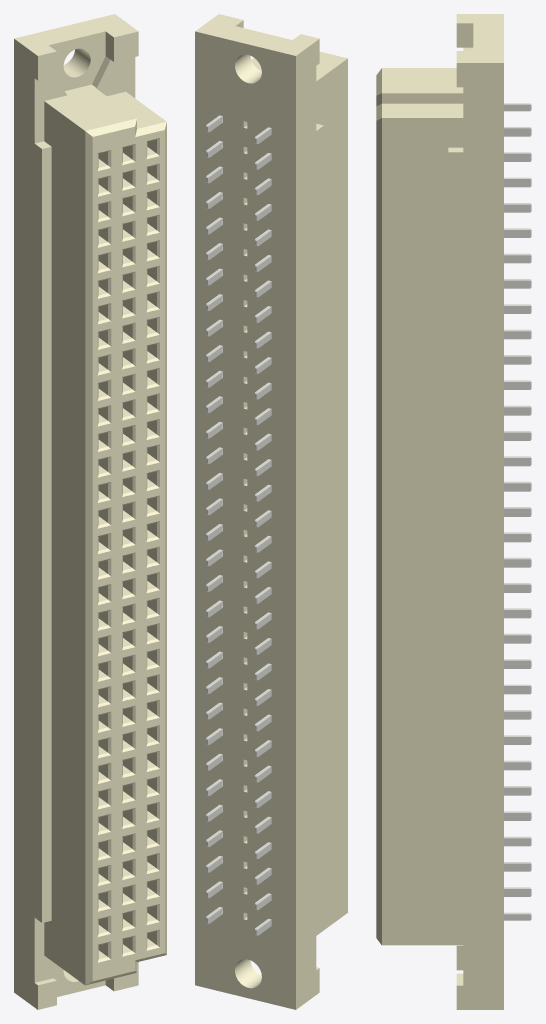
File: DIN41612_C_2x32_Female_Vertical_THT.glb
3 renders of one model, left to right at view 1: azimuth 30°, elevation 25°; view 2: azimuth 150°, elevation 25°; view 3: azimuth 270°, elevation 25°, orthographic.
Visible parts, largest first — view 1: Shape_IndexedFaceSet, Shape_IndexedFaceSet.400, Shape_IndexedFaceSet.900, Shape_IndexedFaceSet.799, Shape_IndexedFaceSet.008, Shape_IndexedFaceSet.398, Shape_IndexedFaceSet.903, Shape_IndexedFaceSet.792, Shape_IndexedFaceSet.001, Shape_IndexedFaceSet.785, Shape_IndexedFaceSet.790, Shape_IndexedFaceSet.795 (+7 smaller); view 2: Shape_IndexedFaceSet.3601, Shape_IndexedFaceSet.900, Shape_IndexedFaceSet.400, Shape_IndexedFaceSet.903, Shape_IndexedFaceSet.905, Shape_IndexedFaceSet.910, Shape_IndexedFaceSet.398; view 3: Shape_IndexedFaceSet.393, Shape_IndexedFaceSet.898, Shape_IndexedFaceSet.001, Shape_IndexedFaceSet.398, Shape_IndexedFaceSet.903, Shape_IndexedFaceSet.394, Shape_IndexedFaceSet.396, Shape_IndexedFaceSet.902.
Boxes of the visible parts, x1,y1,x2,y2 form: Shape_IndexedFaceSet: (92,126,164,981); Shape_IndexedFaceSet.400: (44,101,85,984); Shape_IndexedFaceSet.900: (14,39,41,1009); Shape_IndexedFaceSet.799: (42,147,51,922); Shape_IndexedFaceSet.008: (85,131,92,985); Shape_IndexedFaceSet.398: (44,84,136,130); Shape_IndexedFaceSet.903: (14,14,138,55); Shape_IndexedFaceSet.792: (49,31,105,90); Shape_IndexedFaceSet.001: (165,122,166,954); Shape_IndexedFaceSet.785: (96,57,135,97); Shape_IndexedFaceSet.790: (34,76,66,143); Shape_IndexedFaceSet.795: (34,918,58,982); Shape_IndexedFaceSet.3601: (195,31,295,1009); Shape_IndexedFaceSet.900: (296,39,323,1009); Shape_IndexedFaceSet.400: (316,58,347,935); Shape_IndexedFaceSet.903: (195,14,319,55); Shape_IndexedFaceSet.905: (235,54,261,83); Shape_IndexedFaceSet.910: (235,959,261,988); Shape_IndexedFaceSet.398: (316,51,347,81); Shape_IndexedFaceSet.393: (382,118,463,945); Shape_IndexedFaceSet.898: (448,63,503,1009); Shape_IndexedFaceSet.001: (376,118,381,944); Shape_IndexedFaceSet.398: (382,68,463,93); Shape_IndexedFaceSet.903: (456,14,503,62); Shape_IndexedFaceSet.394: (382,103,463,117); Shape_IndexedFaceSet.396: (382,93,463,103); Shape_IndexedFaceSet.902: (456,23,473,47).
Size of the model in its own units: 4.13 by 37.36 by 5.55.
